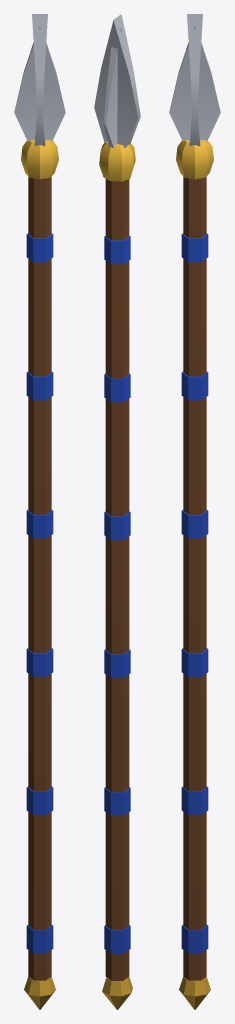
The model's file is Weapon_RoyalSpear.fbx.
The picture shows the model from 3 angles, left to right: view 1: azimuth 90°, elevation 25°; view 2: azimuth 150°, elevation 25°; view 3: azimuth 270°, elevation 25°; orthographic projection.
Parts seen in each view (by area): view 1: RoyalSpear; view 2: RoyalSpear; view 3: RoyalSpear.
Part boxes in pixels (x1,y1,x2,y2): RoyalSpear: [14, 14, 65, 1009]; RoyalSpear: [94, 14, 140, 1009]; RoyalSpear: [169, 14, 220, 1009].
Bounding box in the file's own units: 0.07 × 1.5 × 0.07.
